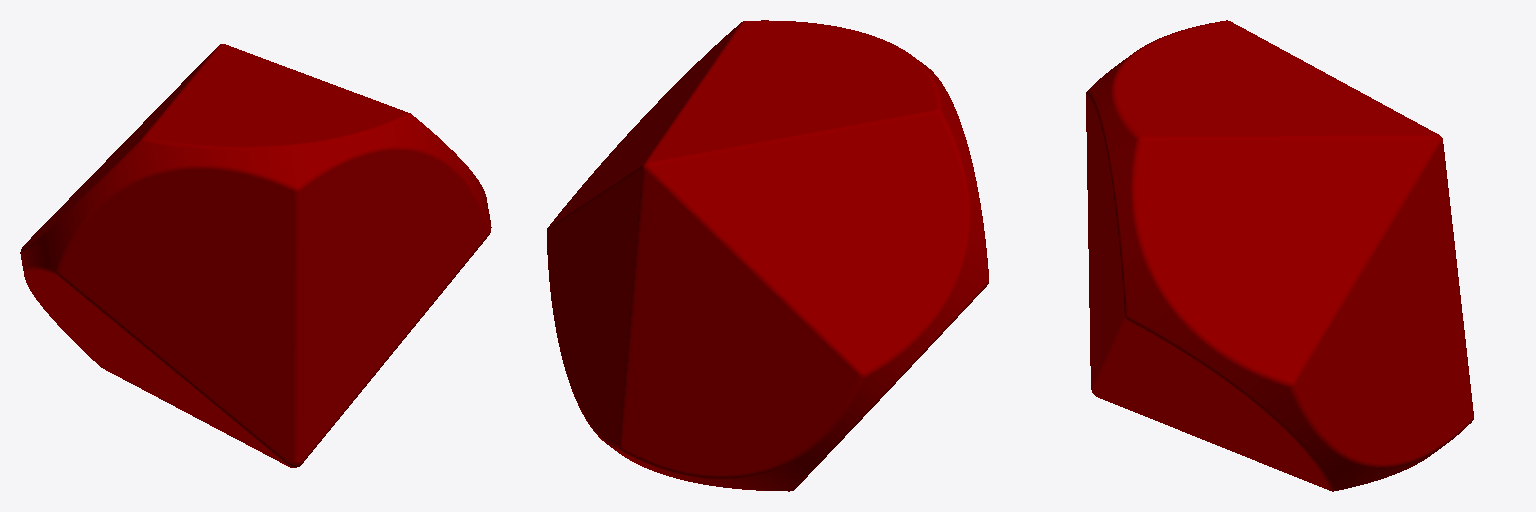
robot.urdf — truth_d10:
<?xml version="1.0" ?>
<robot name="truth_d10"
  xmlns:drake="https://drake.mit.edu/">
    <link name="cube">
        <inertial>
            <origin xyz="0 0 0" rpy="0 0 0"/>
            <mass value="0.5" />
            <inertia
                ixx="0.5"
                ixy="0"
                ixz="0"
                iyy="0.5"
                iyz="0"
                izz="0.5"/>
        </inertial>
        <visual>
            <origin xyz="0 0 0" rpy="0 0 0" />
            <geometry>
                <mesh filename="meshes/d10_4cm_mmscale.obj"/>
            </geometry>
            <material name="pennred">
                <color rgba="0.6 0 0 1.0" />
            </material>
        </visual>
        <collision>
            <geometry>
                <mesh filename="meshes/d10_4cm_mmscale.obj"/>
            </geometry>
            <origin xyz="0 0 0" rpy="0 0 0" />
            <drake:proximity_properties>
                <drake:mu_static value="0.05" />
                <drake:rigid_hydroelastic />
                <drake:mesh_resolution_hint value="0.001" />
                <drake:point_contact_stiffness value="10800.0" />
                <drake:hunt_crossley_dissipation value="0.4" />
            </drake:proximity_properties>
        </collision>
    </link>
</robot>

--- Facts derived from the render (not from the file) ---
The picture shows the robot from 3 angles, left to right: view 1: azimuth 30°, elevation 25°; view 2: azimuth 150°, elevation 25°; view 3: azimuth 270°, elevation 25°; orthographic projection.
Robot: truth_d10 — 1 links, 0 joints (none); root link cube; default pose: every joint at zero.
Visible links, largest first — view 1: cube; view 2: cube; view 3: cube.
Boxes of the visible links, <box> form: cube: <box>20,44,491,467</box>; cube: <box>547,20,988,491</box>; cube: <box>1086,20,1473,491</box>.
Size in the robot's own frame: 0.0516 by 0.0397 by 0.0378 metres.
1 mesh visuals loaded from 1 distinct referenced files (1 OBJ).
